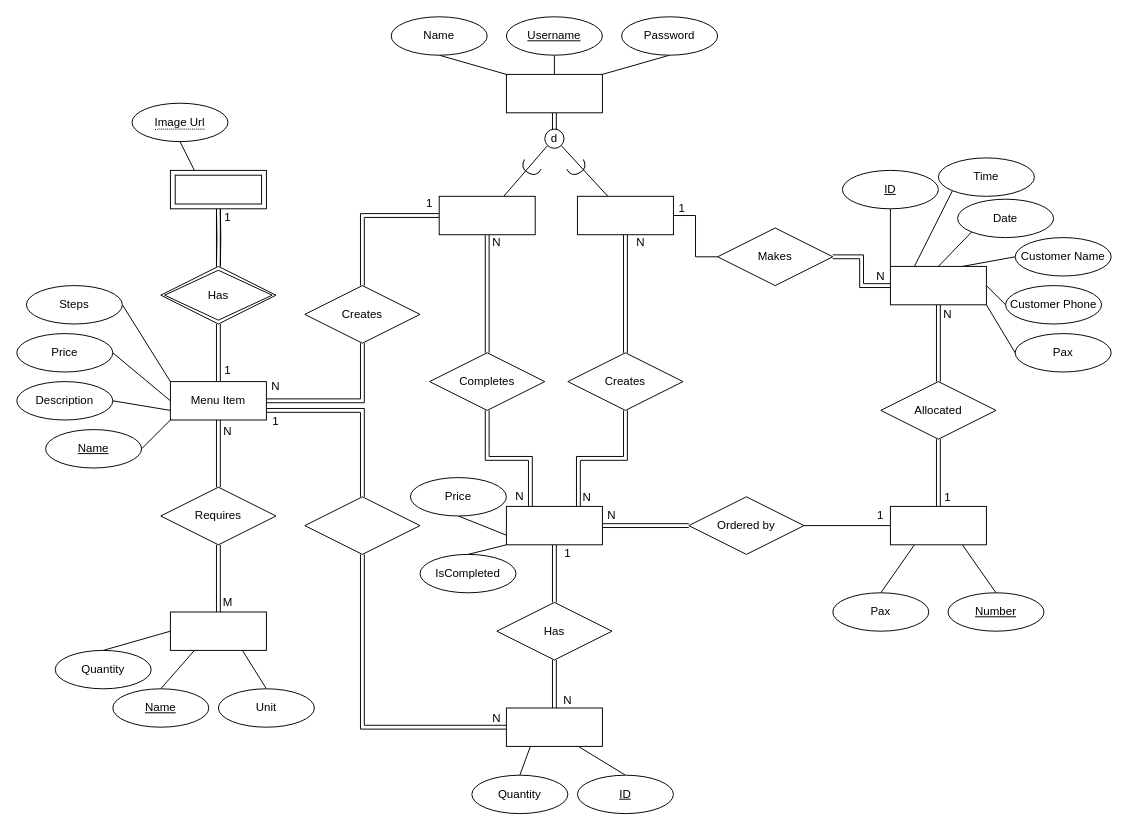
Some shapes in this 1128 by 830 pixel diagram are drawn without their labels. Here are the shapes that lost their labels. From the top down, the centre of each, then its label:
the point at 553,93: User
the point at 217,189: Photo
the point at 486,215: Chef
the point at 624,215: Server
the point at 937,285: Reservation
the point at 362,525: Includes
the point at 553,525: Order
the point at 937,525: Table
the point at 217,630: Ingredient
the point at 553,726: Order Item
